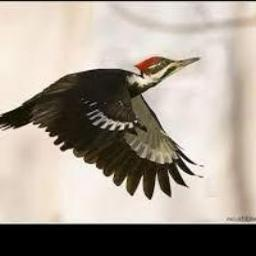Woodpecker: (0, 56, 205, 200)
